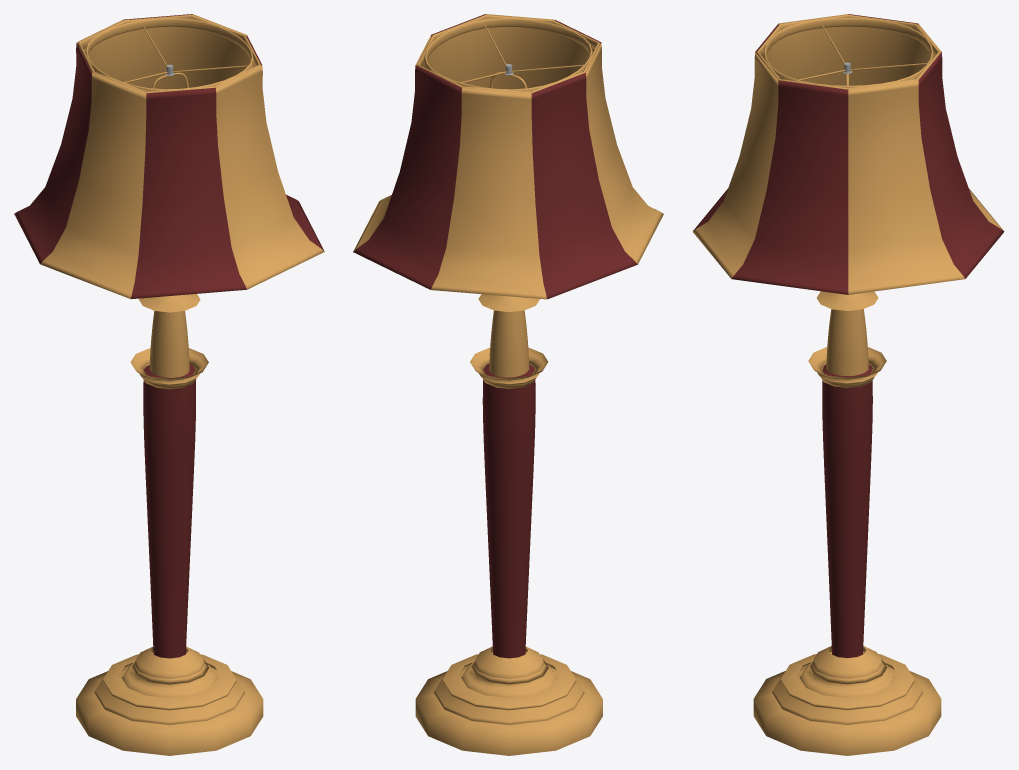
File: Lamp.fbx
3 renders of one model, left to right at view 1: azimuth 30°, elevation 25°; view 2: azimuth 150°, elevation 25°; view 3: azimuth 270°, elevation 25°, orthographic.
Visible parts, largest first — view 1: polySurface1; view 2: polySurface1; view 3: polySurface1.
Boxes of the visible parts, x1=… form: polySurface1: x1=14, y1=14, x2=324, y2=755; polySurface1: x1=353, y1=14, x2=663, y2=755; polySurface1: x1=692, y1=14, x2=1004, y2=755.
Size of the model in its own units: 2.01 by 4.91 by 2.09.
